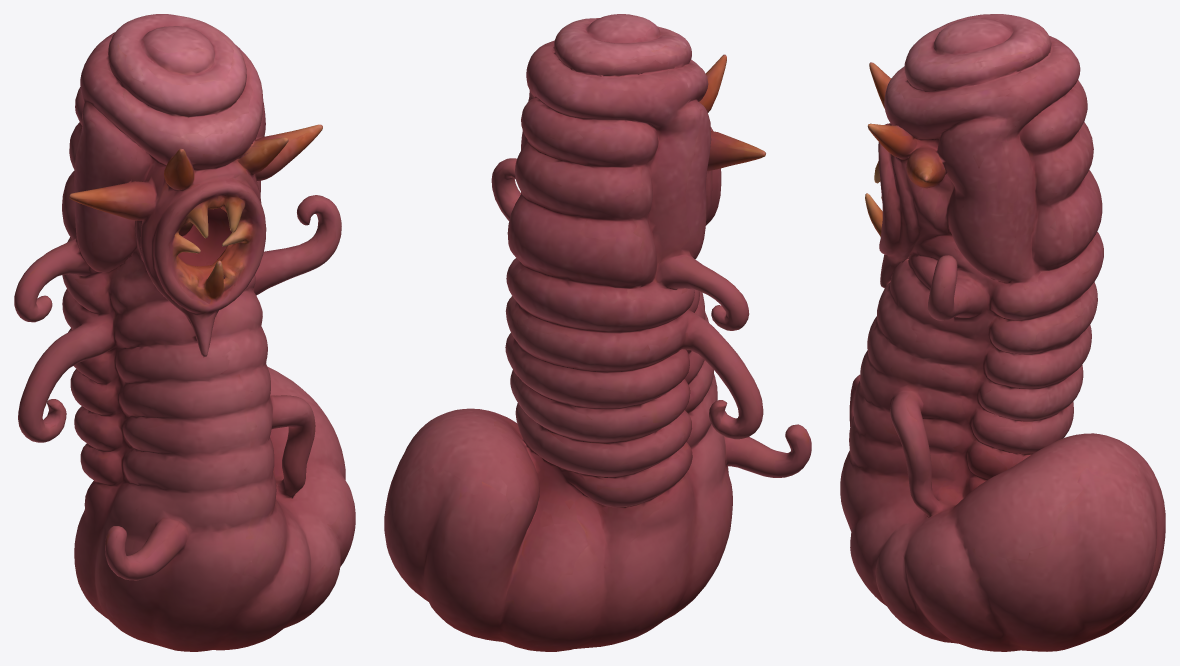
Rendered from SARGA1_2026-08-14T122750.809.glb.
The picture shows the model from 3 angles, left to right: view 1: azimuth 30°, elevation 25°; view 2: azimuth 150°, elevation 25°; view 3: azimuth 270°, elevation 25°; orthographic projection. The views are drawn at different scales.
Visible parts, largest first — view 1: world; view 2: world; view 3: world.
Boxes of the visible parts, box(x1,y1,x2,y2) form: world: box(14, 14, 355, 651); world: box(384, 14, 811, 651); world: box(840, 14, 1165, 651).
Bounding box in the file's own units: 0.5771 × 1 × 0.5073.
1 material, 1 textured.
